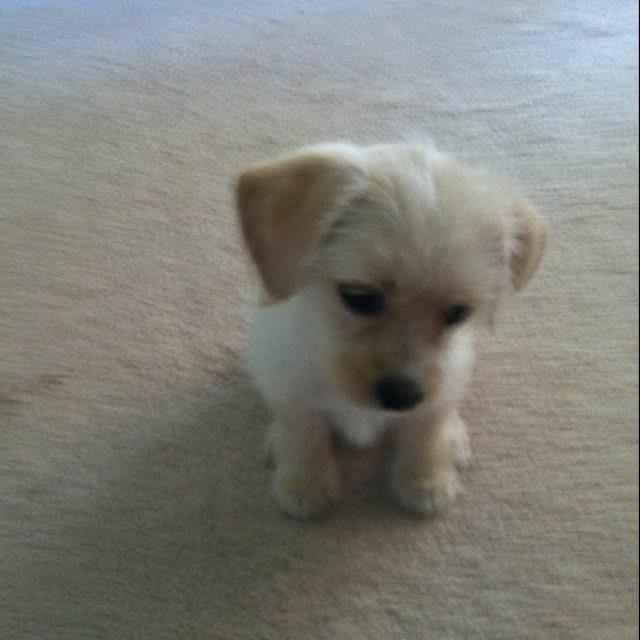puppy-dog: (228, 133, 551, 523)
